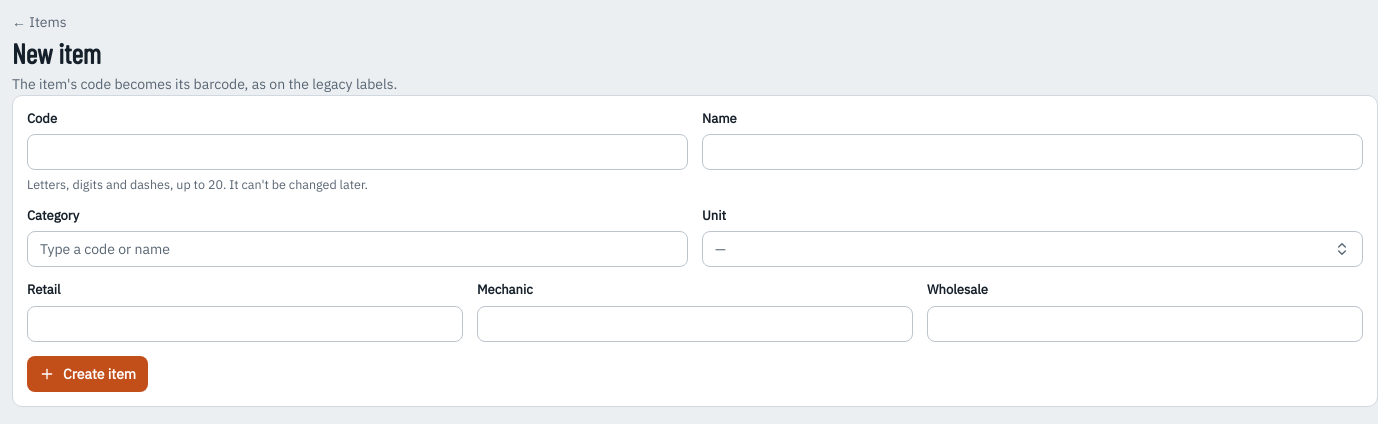
Scenario: a new item › proposes Mechanic and Wholesale from Retail, and sends the code upper case
The image size is (1378, 424).
Later steps or results of the test are not shown.
Type "3950" into the field labelled "Retail" at (245, 324), box [27, 306, 463, 342]
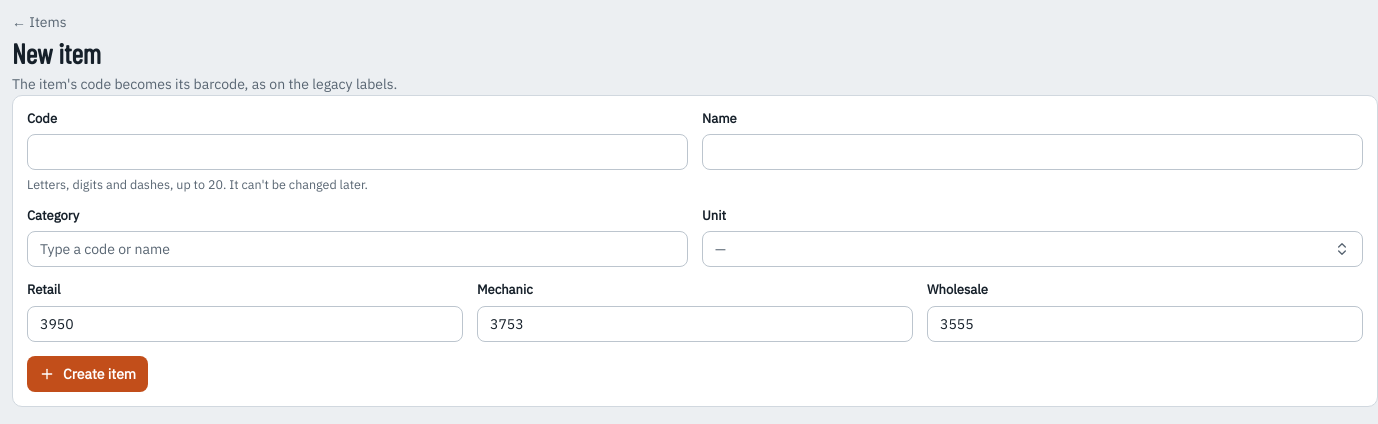
Result: the field labelled "Mechanic" holds "3753" at [477, 306, 913, 342]
Result: the field labelled "Wholesale" holds "3555" at [927, 306, 1363, 342]
